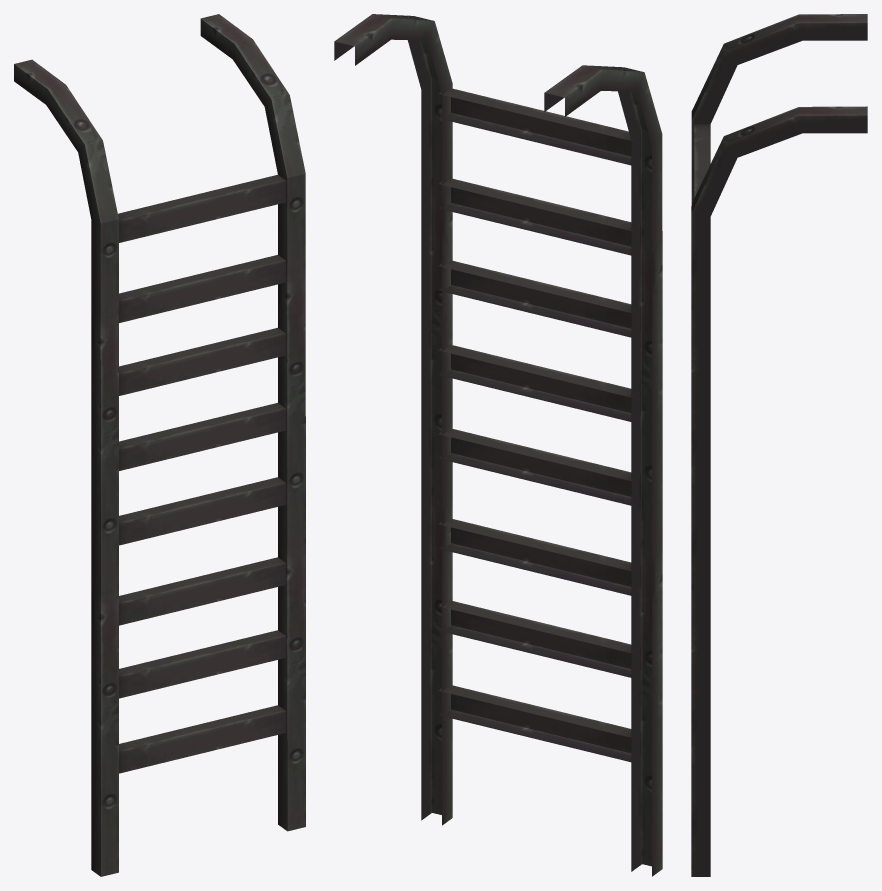
The model's file is sn_jixie_tizi_001.FBX.
The picture shows the model from 3 angles, left to right: view 1: azimuth 30°, elevation 25°; view 2: azimuth 150°, elevation 25°; view 3: azimuth 270°, elevation 25°; orthographic projection. The views are drawn at different scales.
Parts seen in each view (by area): view 1: sn_jixie_tizi_001; view 2: sn_jixie_tizi_001; view 3: sn_jixie_tizi_001.
Boxes of the visible parts, x1=… form: sn_jixie_tizi_001: x1=14, y1=14, x2=305, y2=876; sn_jixie_tizi_001: x1=334, y1=14, x2=662, y2=876; sn_jixie_tizi_001: x1=691, y1=14, x2=867, y2=876.
Size of the model in its own units: 11.11 by 8.16 by 38.82.
